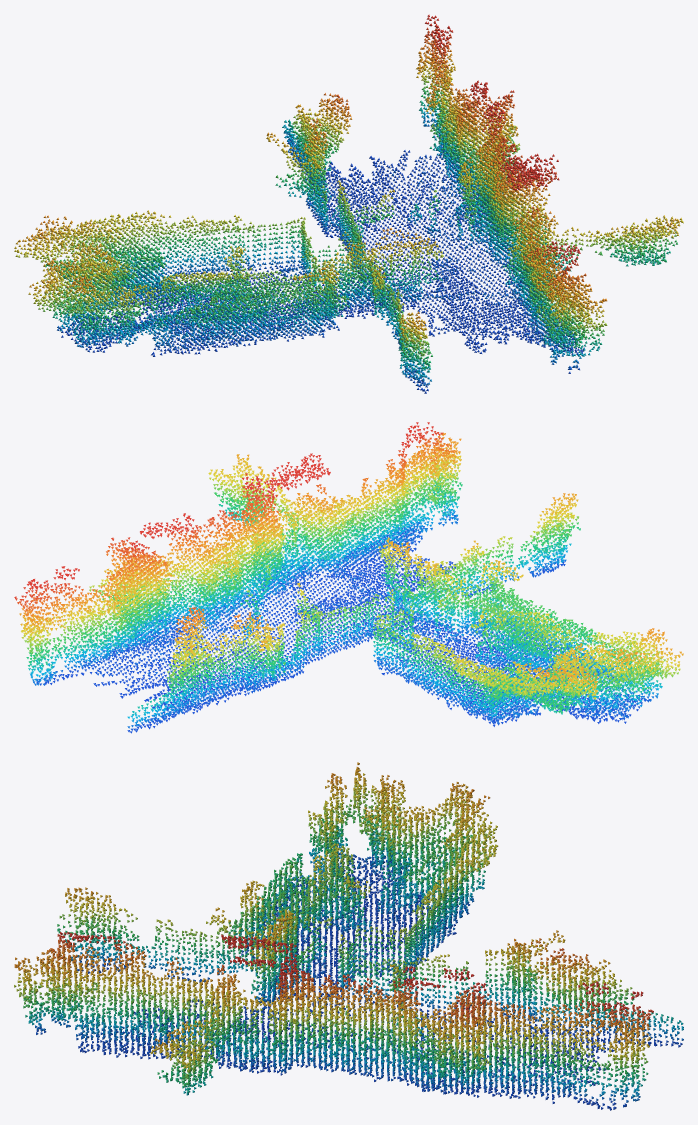
The model's file is hallway-001_splat.obj.
3 renders of one model, top to bottom at view 1: azimuth 30°, elevation 25°; view 2: azimuth 150°, elevation 25°; view 3: azimuth 270°, elevation 25°, orthographic. The views are drawn at different scales.
Size of the model in its own units: 12.1 by 2.52 by 11.79.
Materials: 1 (1 with a texture image).
